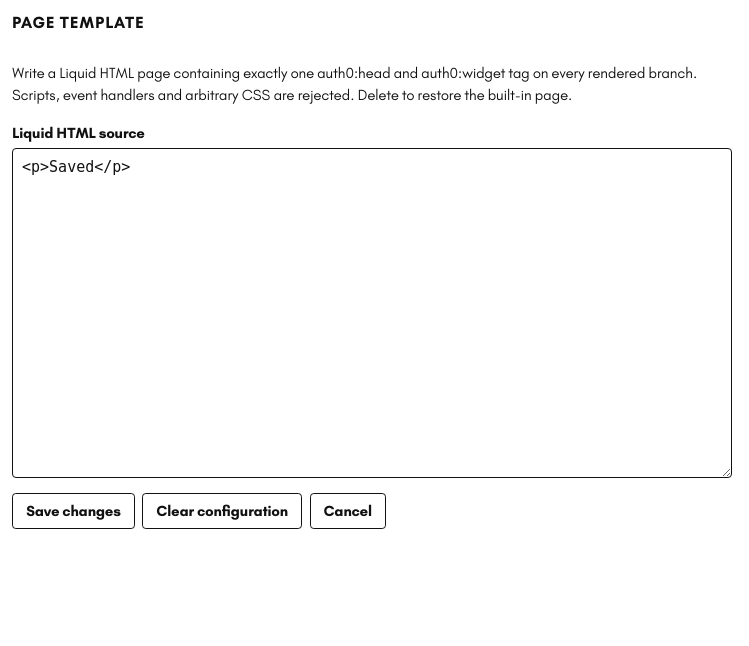
Test: Branding editors › retains a draft and refreshes once after an uncertain save without retrying it
Replace the text in the text box labelled "Liquid HTML source" with "<p>Unsaved draft</p>": (372, 313) 12,148 -> 732,478
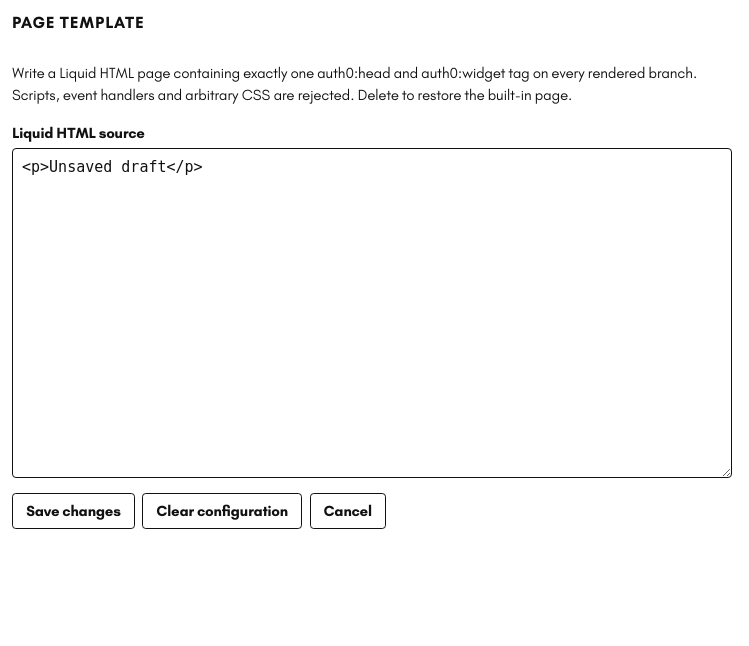
Submit the form
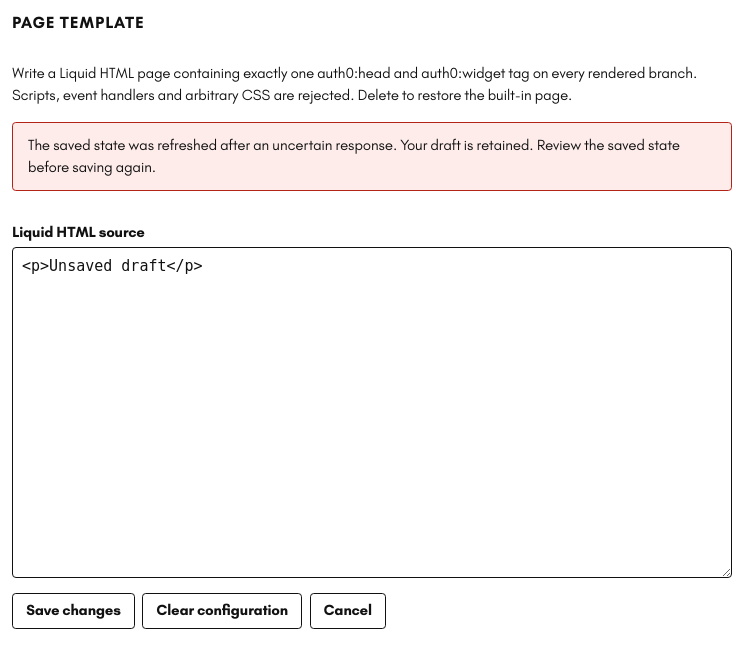
Check: the text "The saved state was refreshed" is shown, box 28,136 -> 680,176
